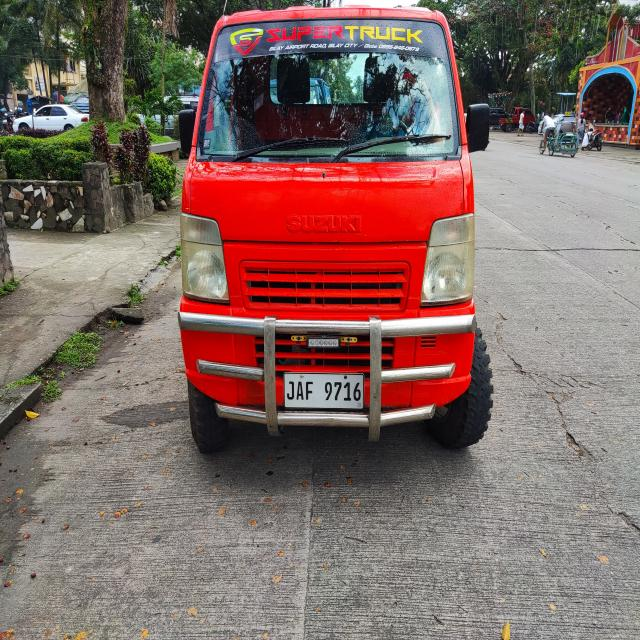plate: (283, 372, 365, 410)
